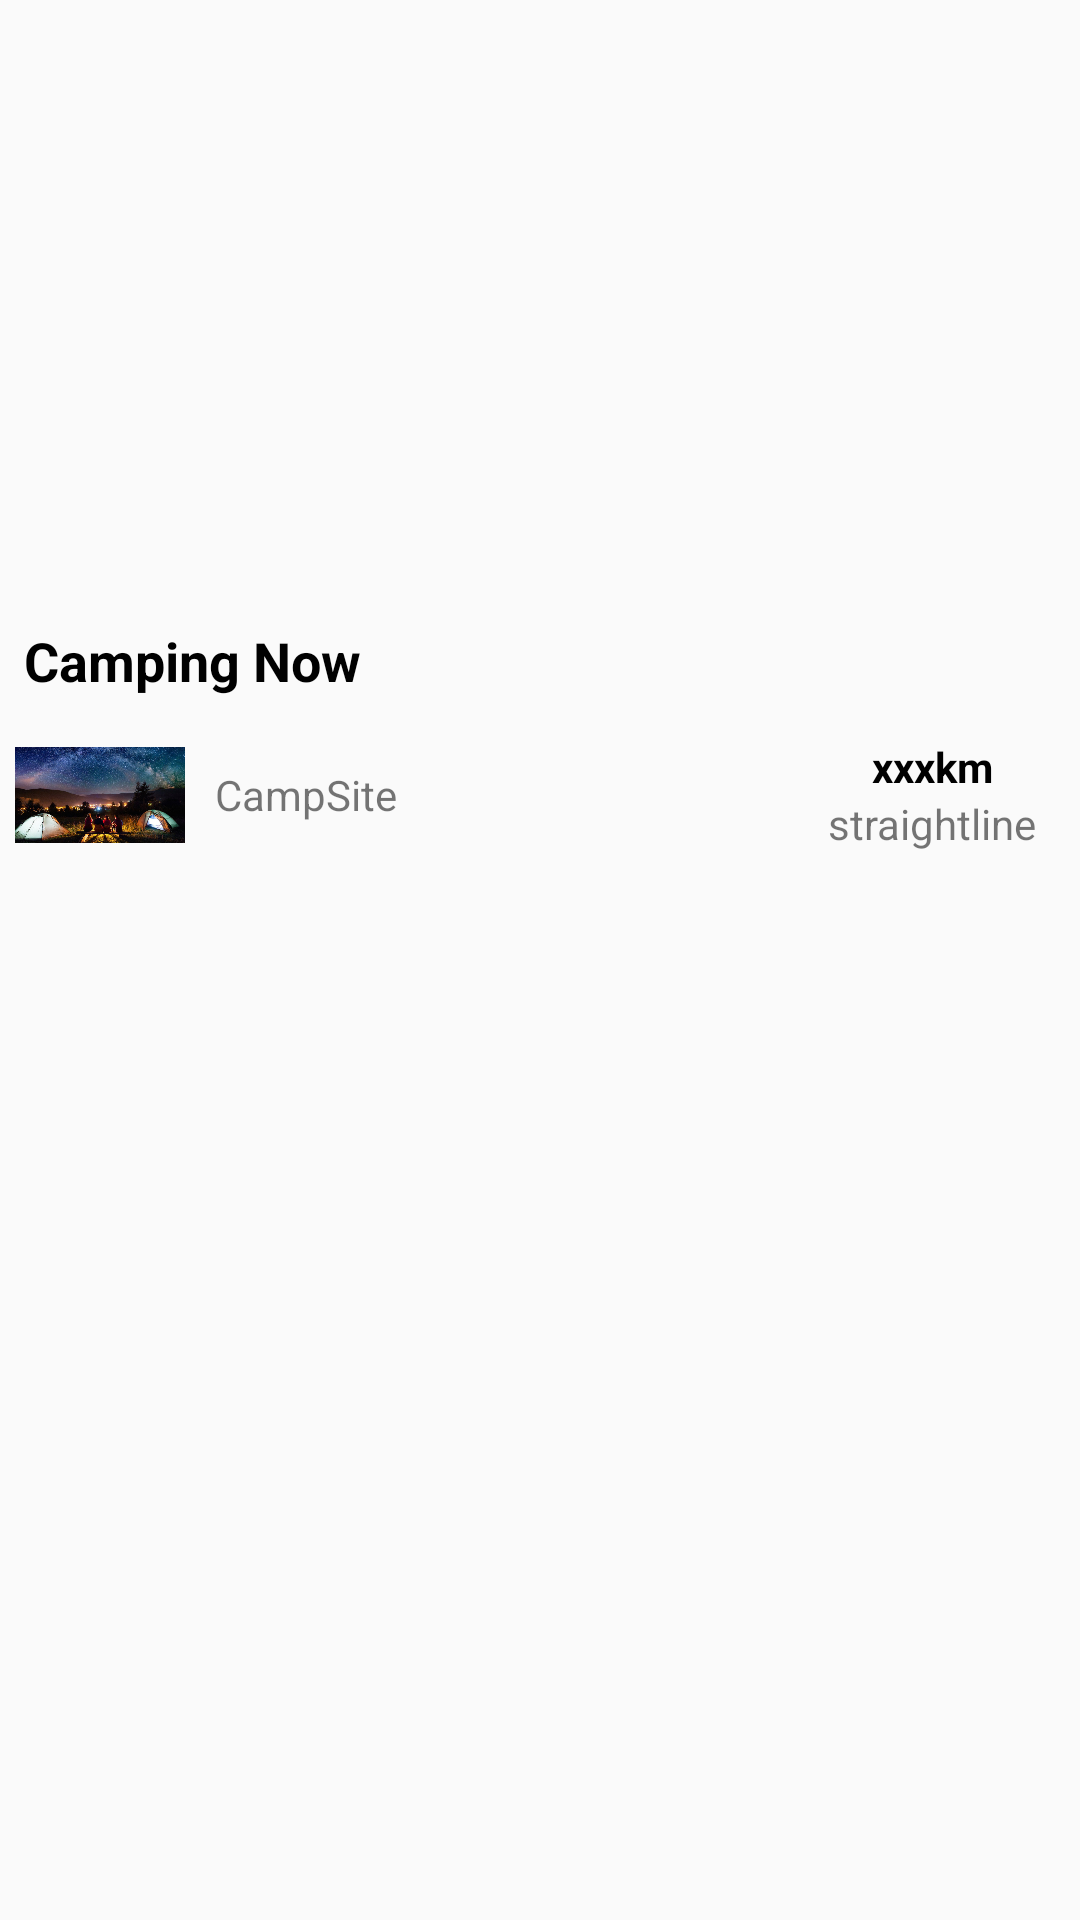

Locate icon controls on the screen. Image size 1080px x 1920px, boxes as (x1, y1, x2, y2).
photo: (15, 747, 185, 843)
